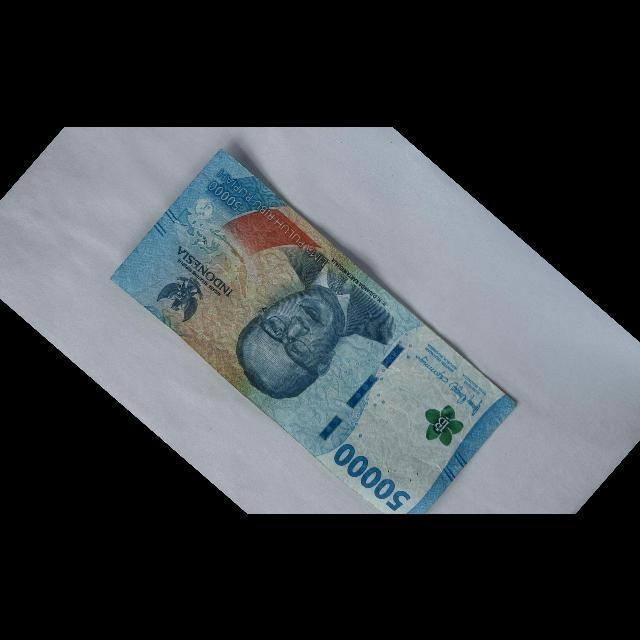Palsu-50k: (104, 143, 522, 538)
Tinta-Palsu-50k: (412, 394, 470, 453)
